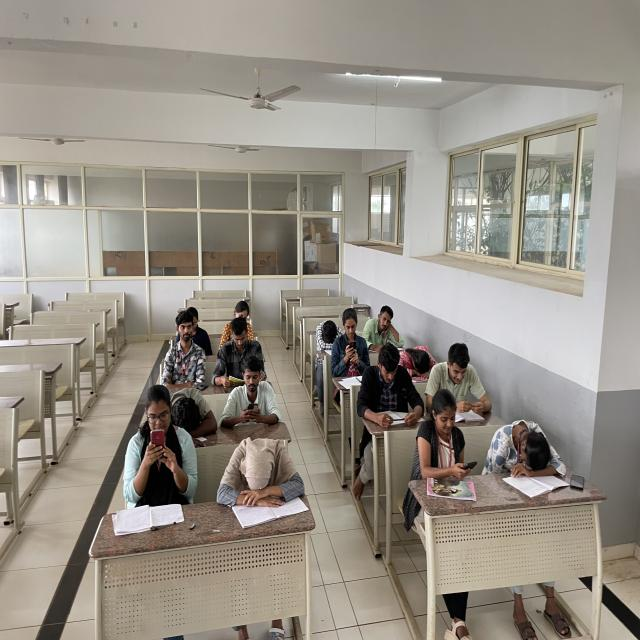Reading: (432, 338, 488, 424), (366, 344, 418, 420), (216, 319, 270, 386)
Sleeping: (480, 413, 565, 482), (226, 436, 307, 505), (165, 380, 220, 447), (401, 345, 439, 380), (316, 318, 346, 357)
Using Phone: (405, 394, 485, 503), (118, 386, 190, 500), (229, 358, 286, 432), (335, 307, 371, 383)
Writing: (366, 306, 404, 357)
